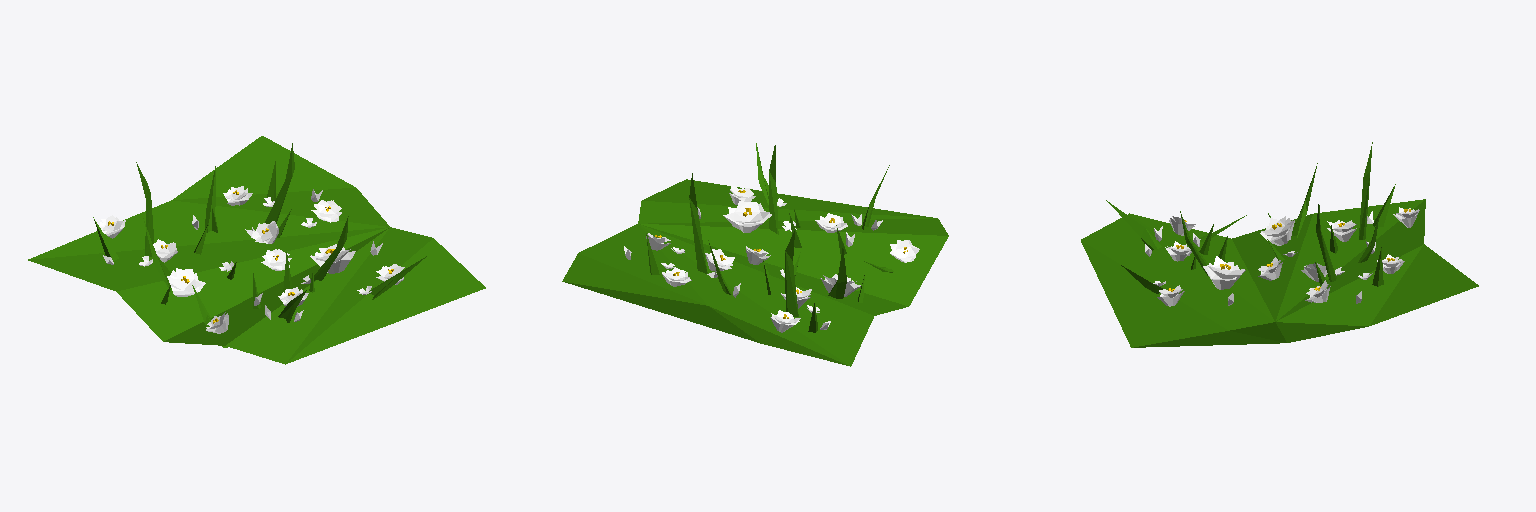
3 renders of one model, left to right at view 1: azimuth 30°, elevation 25°; view 2: azimuth 150°, elevation 25°; view 3: azimuth 270°, elevation 25°, orthographic.
Parts seen in each view (by area): view 1: group[number redacted], group[number redacted], group[number redacted], group[number redacted]; view 2: group[number redacted], group[number redacted], group[number redacted], group[number redacted], group[number redacted]; view 3: group[number redacted], group[number redacted], group[number redacted], group[number redacted].
Part boxes in pixels (x1,y1,x2,y2): group[number redacted]: (28, 136, 485, 364); group[number redacted]: (167, 268, 205, 296); group[number redacted]: (310, 244, 355, 273); group[number redacted]: (265, 143, 294, 223); group[number redacted]: (562, 179, 948, 366); group[number redacted]: (723, 201, 771, 232); group[number redacted]: (785, 231, 798, 316); group[number redacted]: (689, 173, 707, 273); group[number redacted]: (769, 145, 778, 234); group[number redacted]: (1081, 199, 1478, 347); group[number redacted]: (1203, 256, 1245, 289); group[number redacted]: (1260, 216, 1294, 245); group[number redacted]: (1359, 142, 1372, 239).
Bounding box in the file's own units: 3.21 × 1.68 × 3.55.